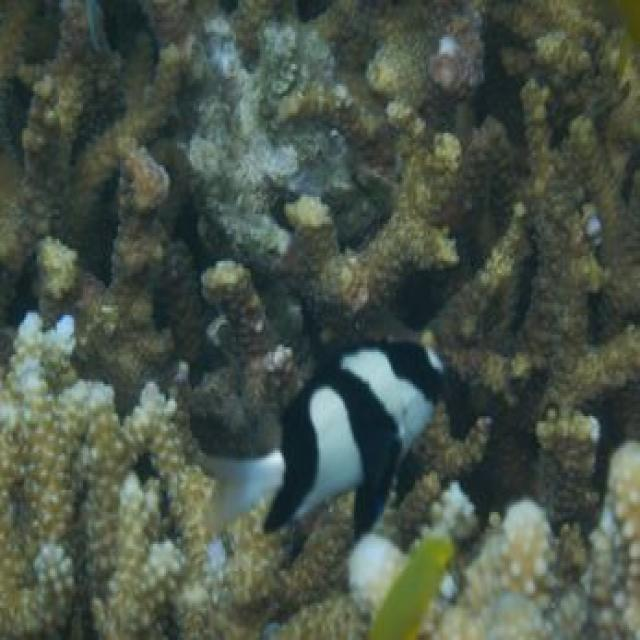Three_striped DasmselFish: (190, 331, 443, 566)
